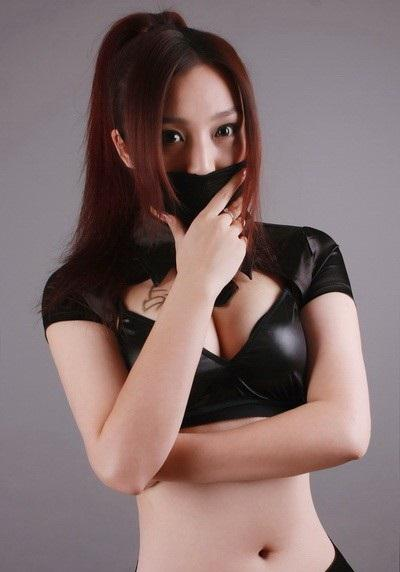WRONG: (144, 102, 266, 224)
